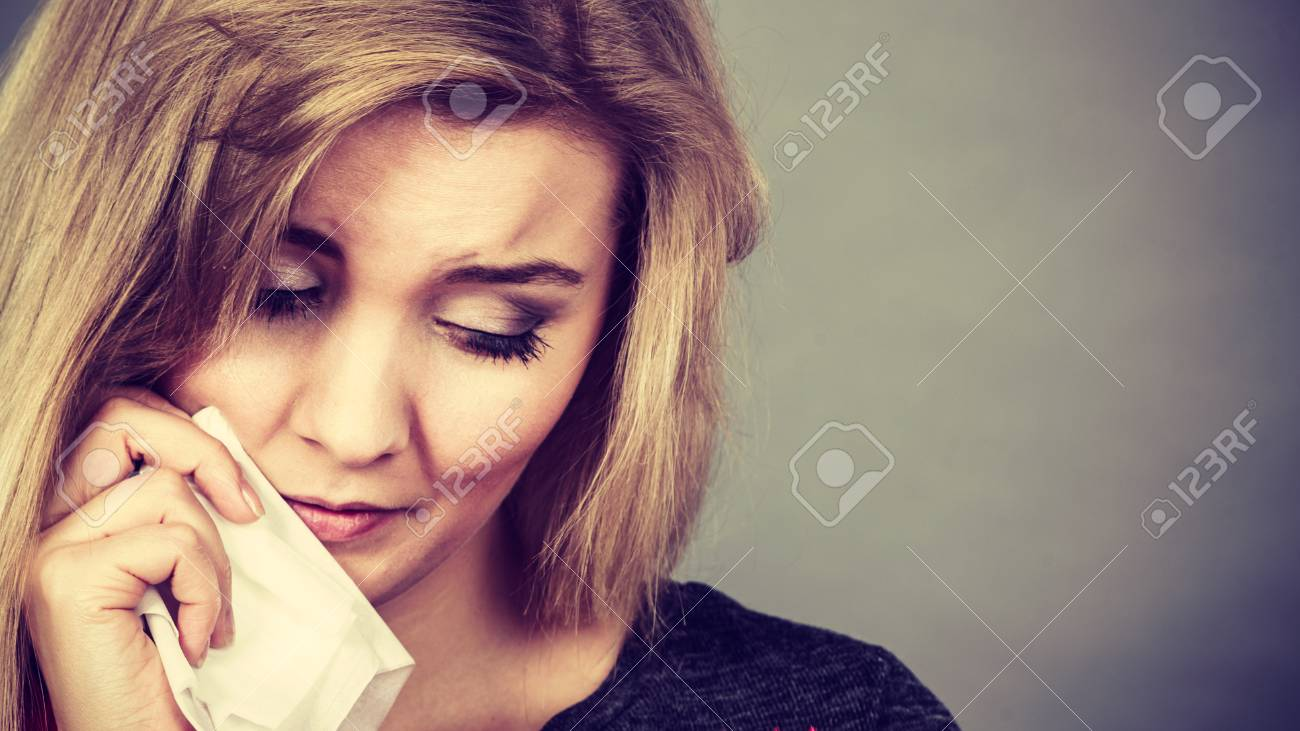Sad: (187, 130, 602, 544)
